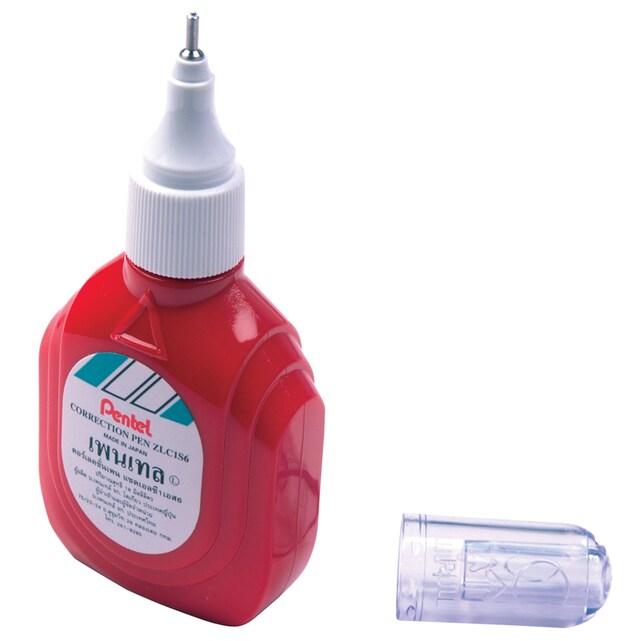Correction_fluid: (33, 3, 330, 632)
